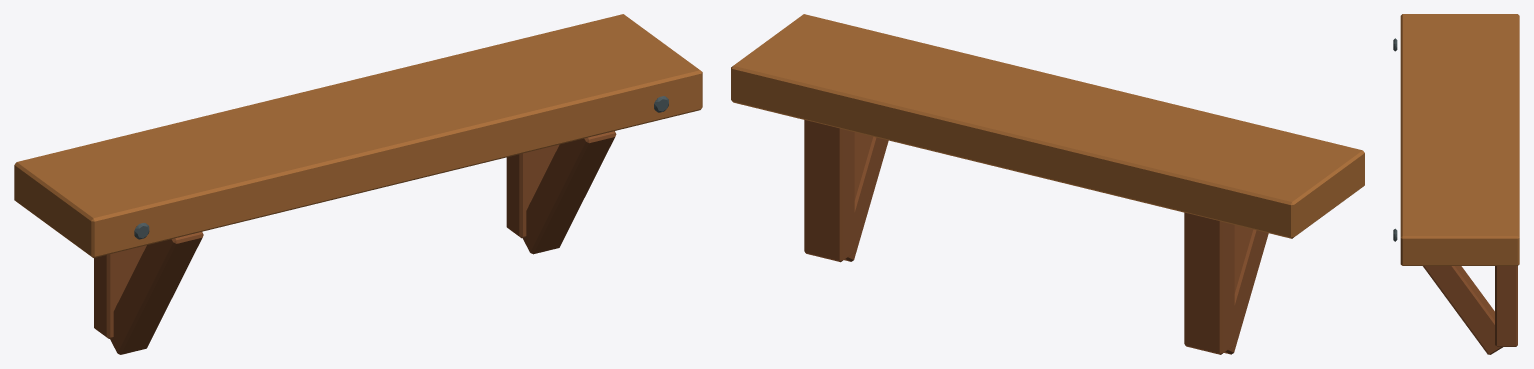
Rendered from wall_shelf.glb.
3 views of the same model, side by side, from view 1: azimuth 30°, elevation 25°; view 2: azimuth 150°, elevation 25°; view 3: azimuth 270°, elevation 25° (orthographic). The views are drawn at different scales.
Parts seen in each view (by area): view 1: wall_shelf__body__oak2, wall_shelf__body__oak; view 2: wall_shelf__body__oak2, wall_shelf__body__oak; view 3: wall_shelf__body__oak2, wall_shelf__body__oak, wall_shelf__body__metal.
Boxes of the visible parts, left/top/right/bottom form: wall_shelf__body__oak2: left=14, top=14, right=702, bottom=257; wall_shelf__body__oak: left=94, top=131, right=616, bottom=354; wall_shelf__body__oak2: left=731, top=14, right=1364, bottom=238; wall_shelf__body__oak: left=804, top=120, right=1268, bottom=354; wall_shelf__body__oak2: left=1400, top=14, right=1519, bottom=265; wall_shelf__body__oak: left=1423, top=266, right=1517, bottom=354; wall_shelf__body__metal: left=1393, top=38, right=1397, bottom=241.
Bounding box in the file's own units: 1.6 × 0.4989 × 0.382.
